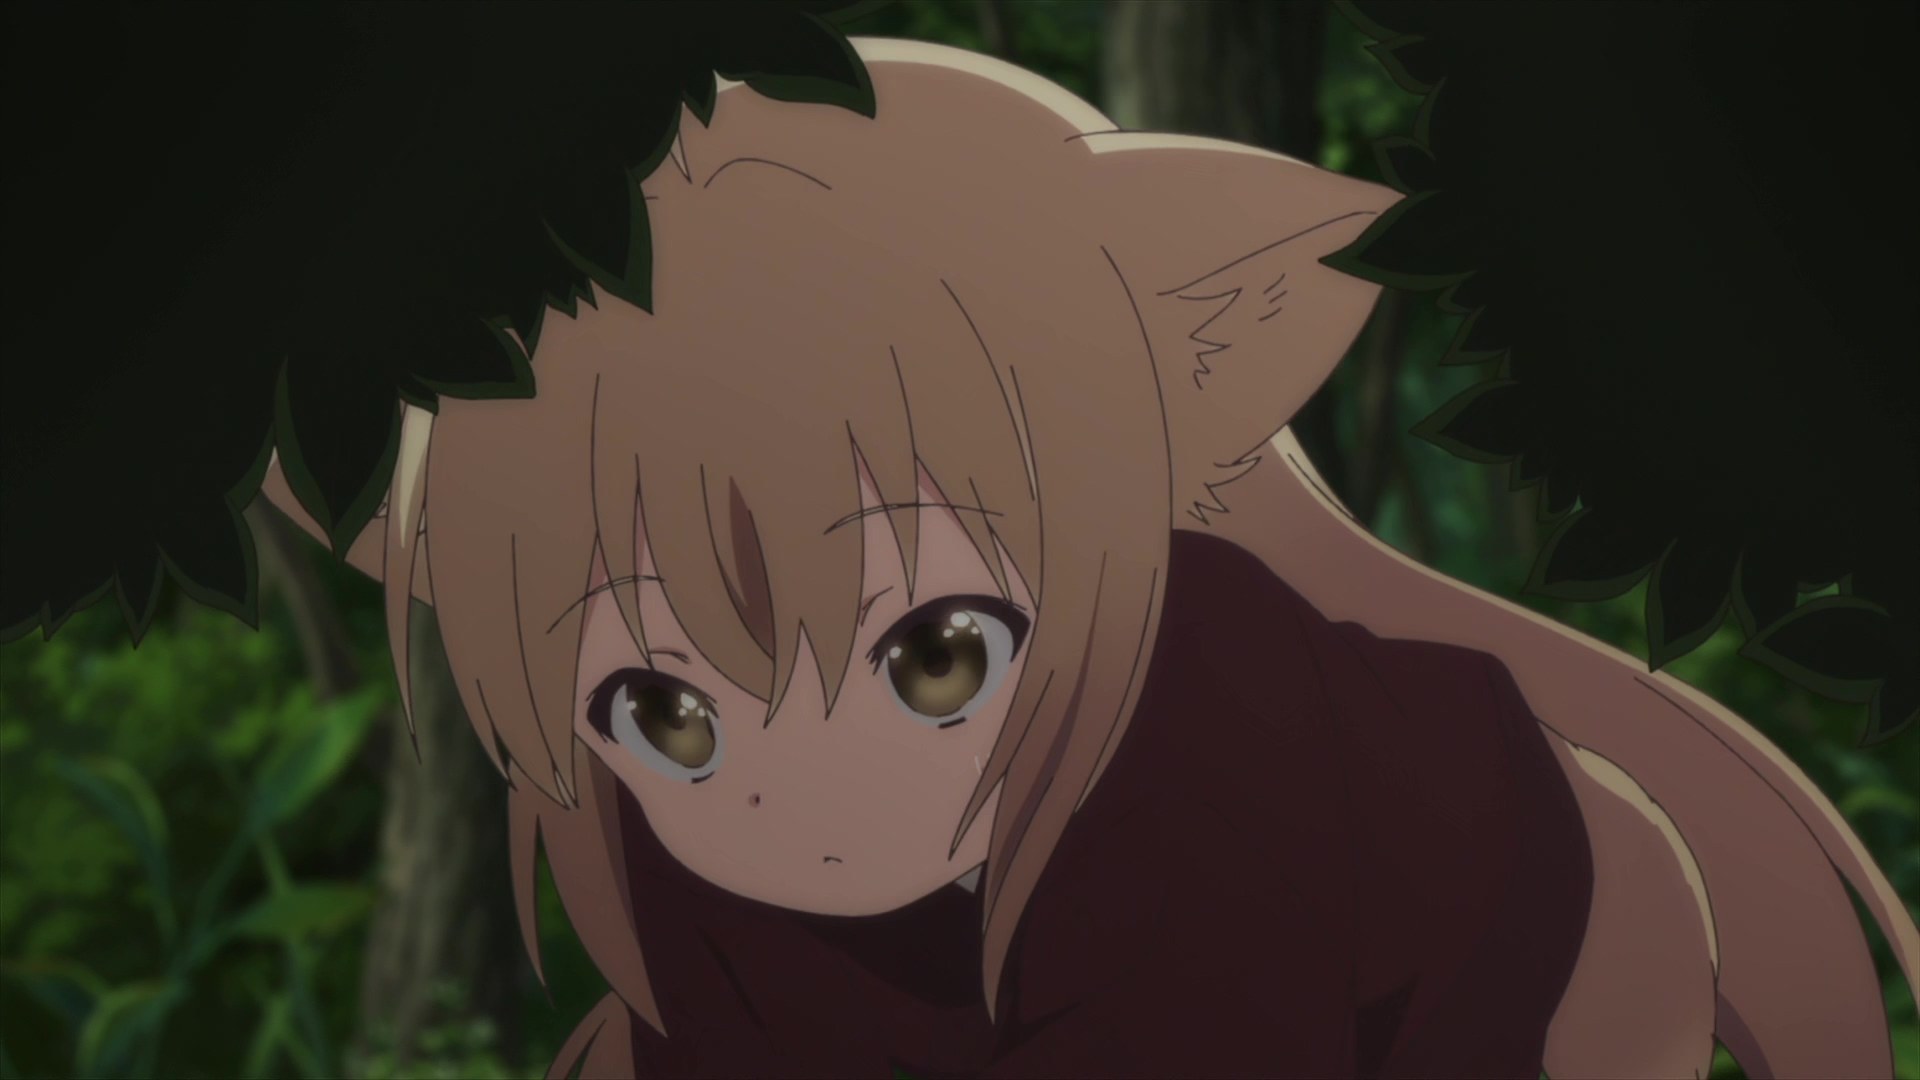柚: (262, 1, 1920, 1080)
